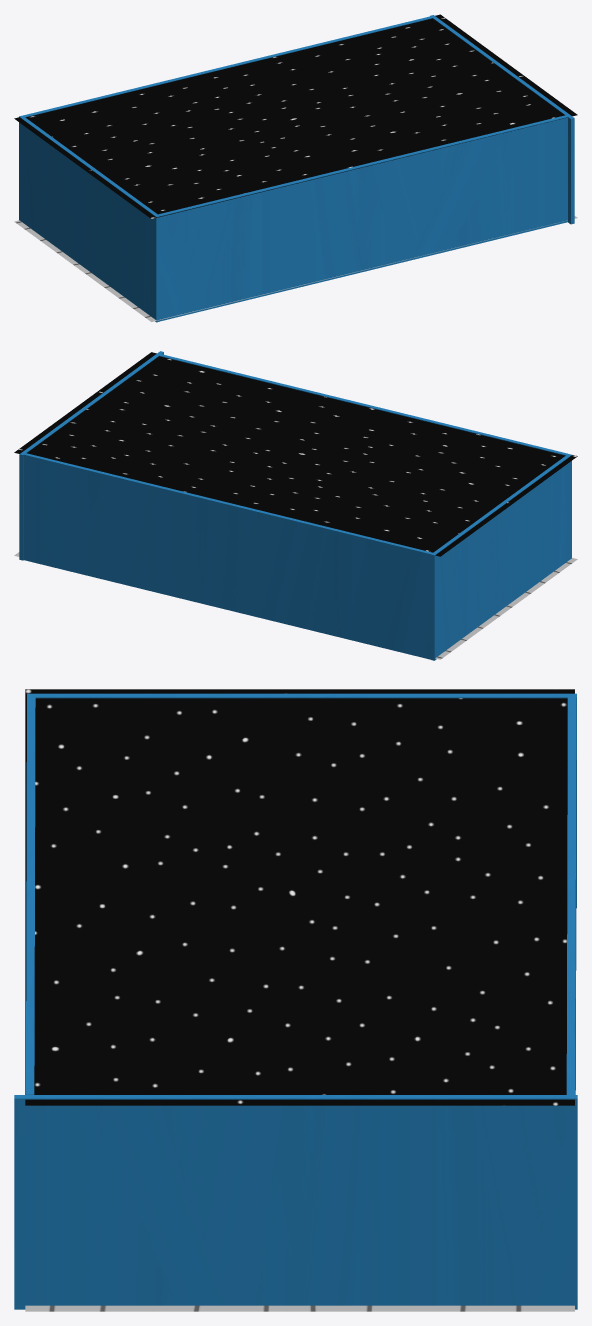
File: resturant2.gltf
The picture shows the model from 3 angles, top to bottom: view 1: azimuth 30°, elevation 25°; view 2: azimuth 150°, elevation 25°; view 3: azimuth 270°, elevation 25°; orthographic projection. The views are drawn at different scales.
Parts seen in each view (by area): view 1: Ceiling; view 2: Ceiling; view 3: Ceiling.
Part boxes in pixels (bbox=[...]): Ceiling: bbox=[14, 14, 577, 322]; Ceiling: bbox=[14, 351, 577, 660]; Ceiling: bbox=[14, 689, 577, 1311].
Bounding box in the file's own units: 231 × 54.76 × 132.
Materials: 6 (6 with a texture image).
